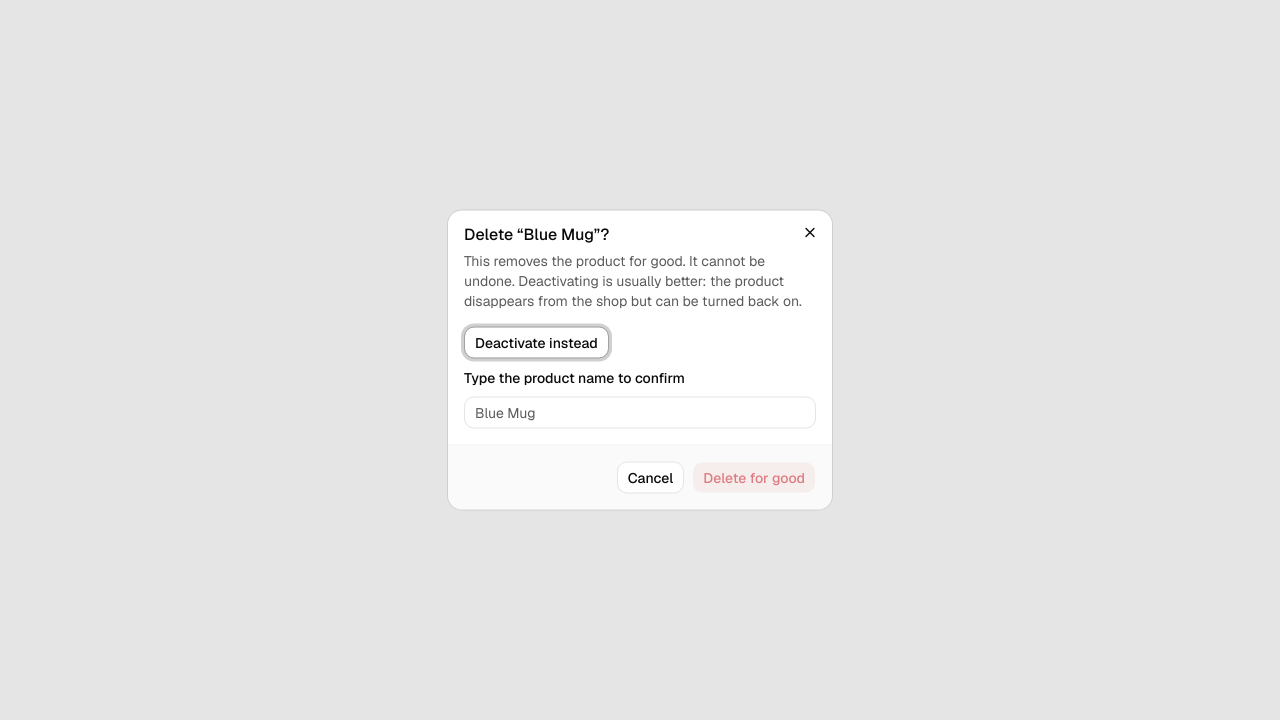
Test case: DeleteProductDialog › needs the exact product name and offers deactivating instead
Expected: the button "Deactivate instead" is shown, [464,326,609,358]
Expected: the button "Delete for good" is disabled, [692,462,816,494]
In the field labelled "Type the product name to confirm": (640, 412) [464,396,816,428], type "blue mug"
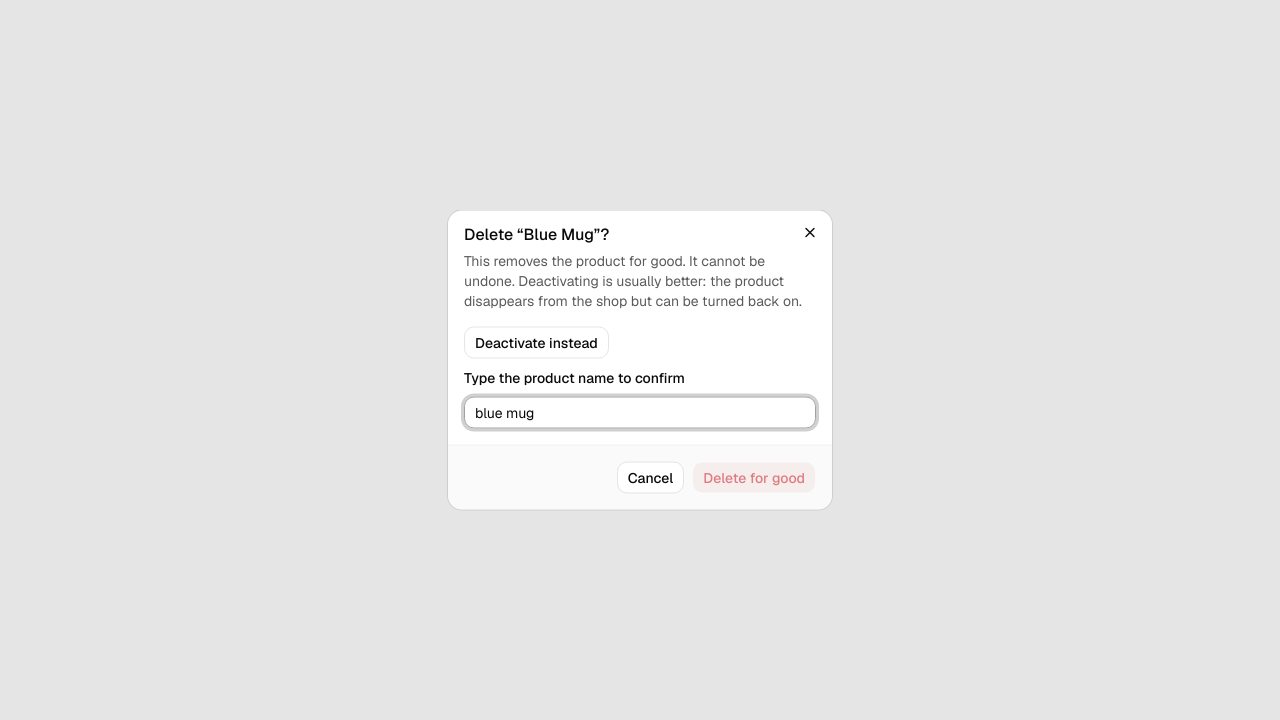
Expected: the button "Delete for good" is disabled, [692,462,816,494]
Replace the text in the field labelled "Type the product name to confirm" with "Blue Mug": (640, 412) [464,396,816,428]
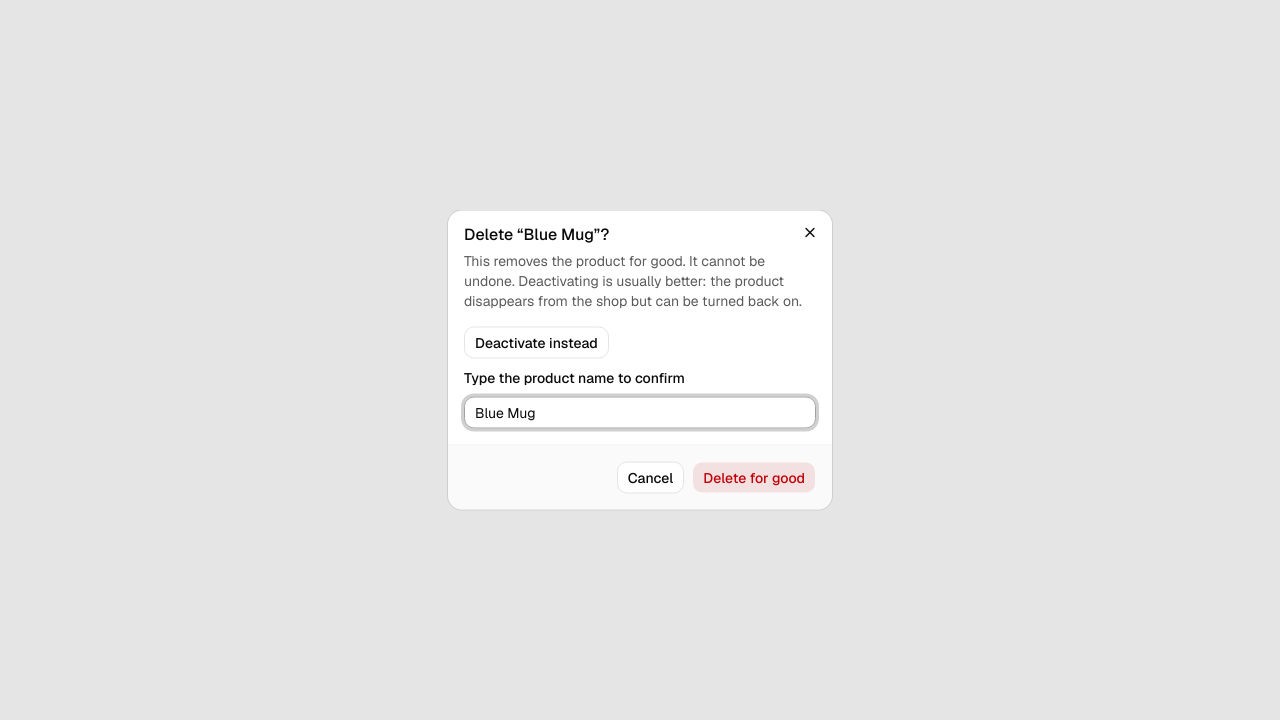
Now the button "Delete for good" is enabled, box [692,462,816,494]
